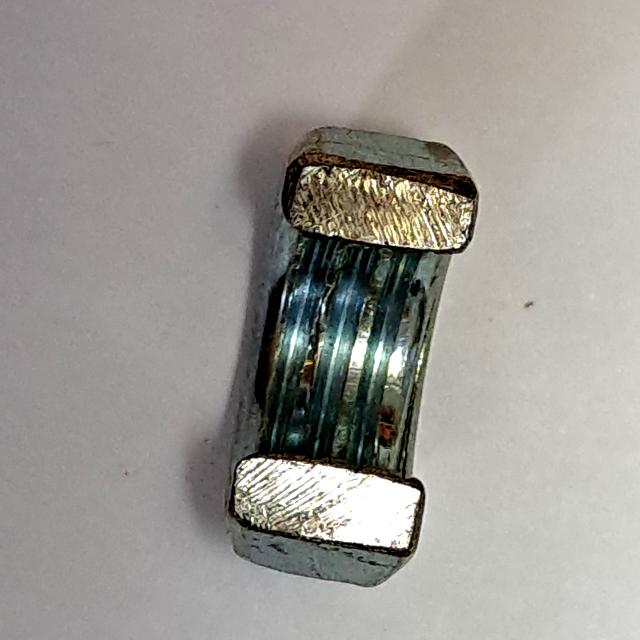Side-Fracture: (211, 108, 488, 603)
